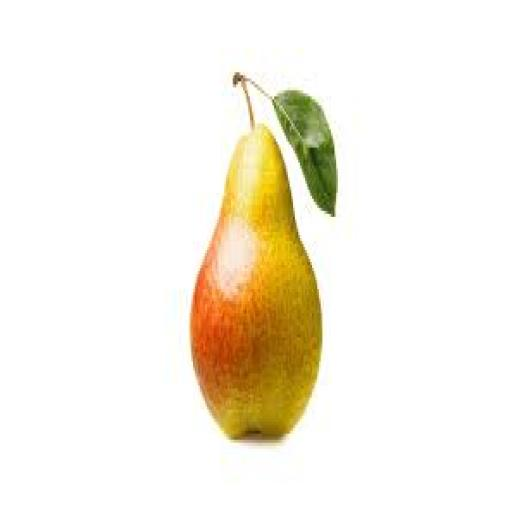Pear: (192, 127, 320, 436)
